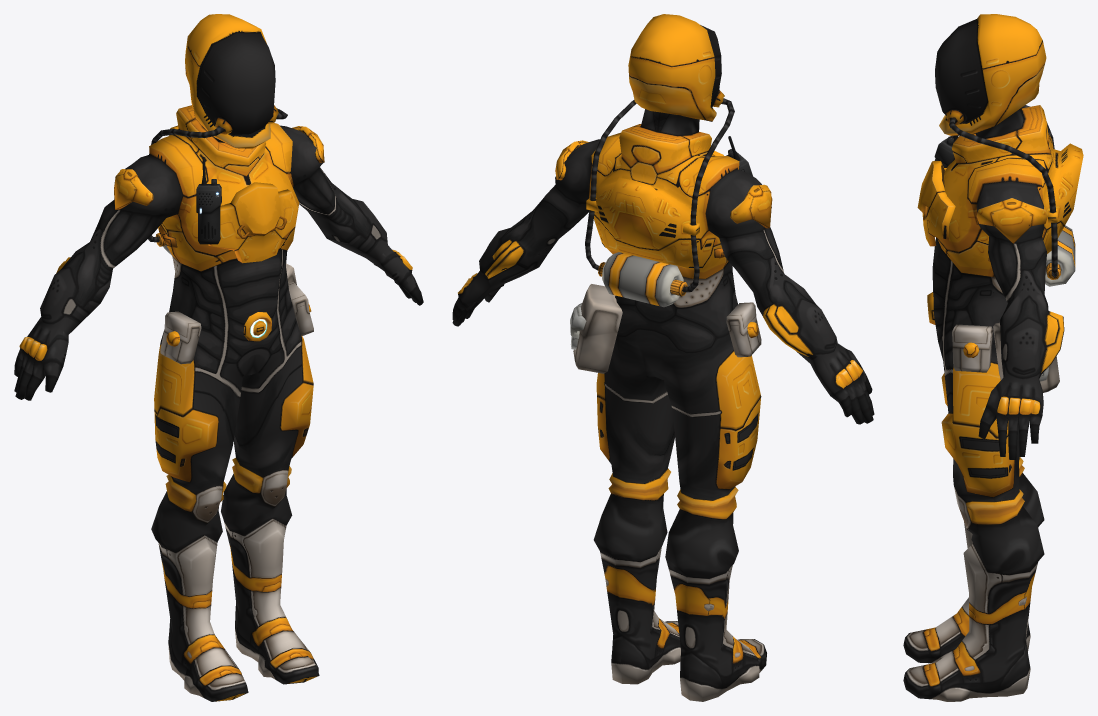
Rendered from space_explorer.glb.
3 renders of one model, left to right at view 1: azimuth 30°, elevation 25°; view 2: azimuth 150°, elevation 25°; view 3: azimuth 270°, elevation 25°, orthographic. The views are drawn at different scales.
Visible parts, largest first — view 1: body; view 2: body; view 3: body.
Part boxes in pixels (left/top/right/bottom): body: left=14, top=14, right=423, bottom=701; body: left=452, top=14, right=874, bottom=701; body: left=903, top=14, right=1083, bottom=701.
Size of the model in its own units: 1.15 by 1.75 by 0.4364.
Materials: 1 (1 with a texture image).
